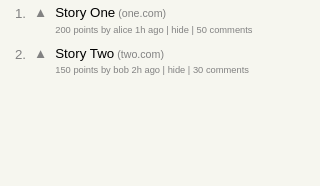
it: StoryList › collapses details on second click
Click the link "50 comments" at x=202, y=30, box [196, 25, 252, 35]
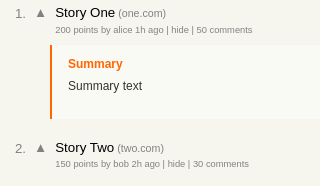
Expected: the text "Summary text" is shown, [68, 79, 142, 93]
Note: Click again to collapse
Click the link "50 comments" at x=202, y=30, box [196, 25, 252, 35]
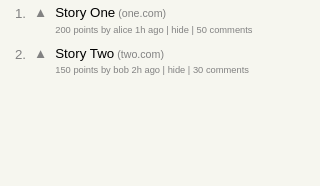
Expected: the text "Summary text" is gone
